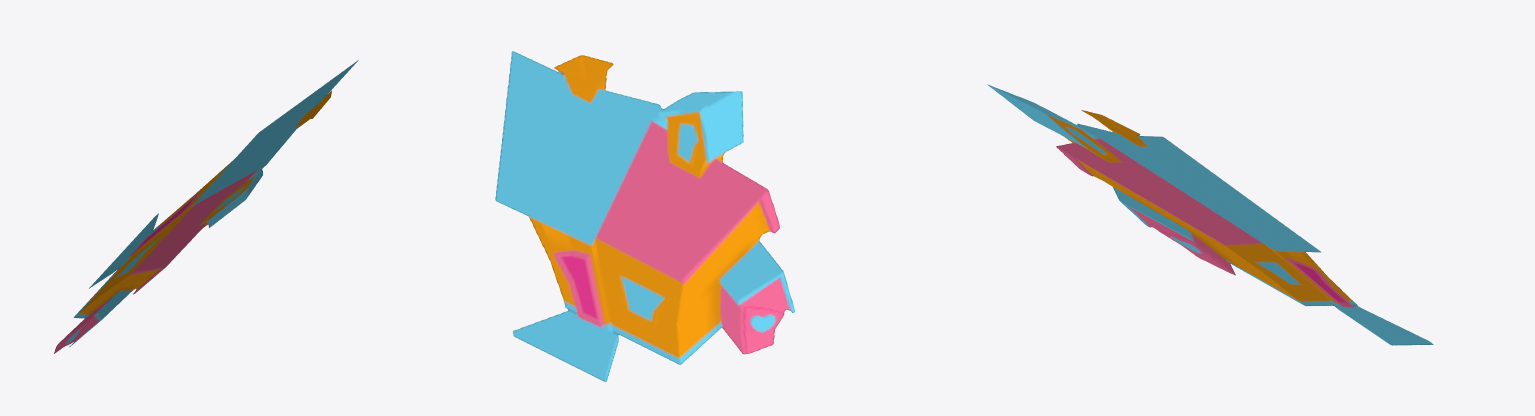
Rendered from Mainhouse_spriteplane_TEST.FBX.
3 renders of one model, left to right at view 1: azimuth 30°, elevation 25°; view 2: azimuth 150°, elevation 25°; view 3: azimuth 270°, elevation 25°, orthographic. The views are drawn at different scales.
Parts seen in each view (by area): view 1: Mainhouse_Sprite_Test; view 2: Mainhouse_Sprite_Test; view 3: Mainhouse_Sprite_Test.
Boxes of the visible parts, bbox=[...] form: Mainhouse_Sprite_Test: bbox=[54, 60, 358, 353]; Mainhouse_Sprite_Test: bbox=[495, 51, 794, 382]; Mainhouse_Sprite_Test: bbox=[987, 84, 1433, 345].
Size of the model in its own units: 362 by 212 by 362.
1 material, 1 textured.
